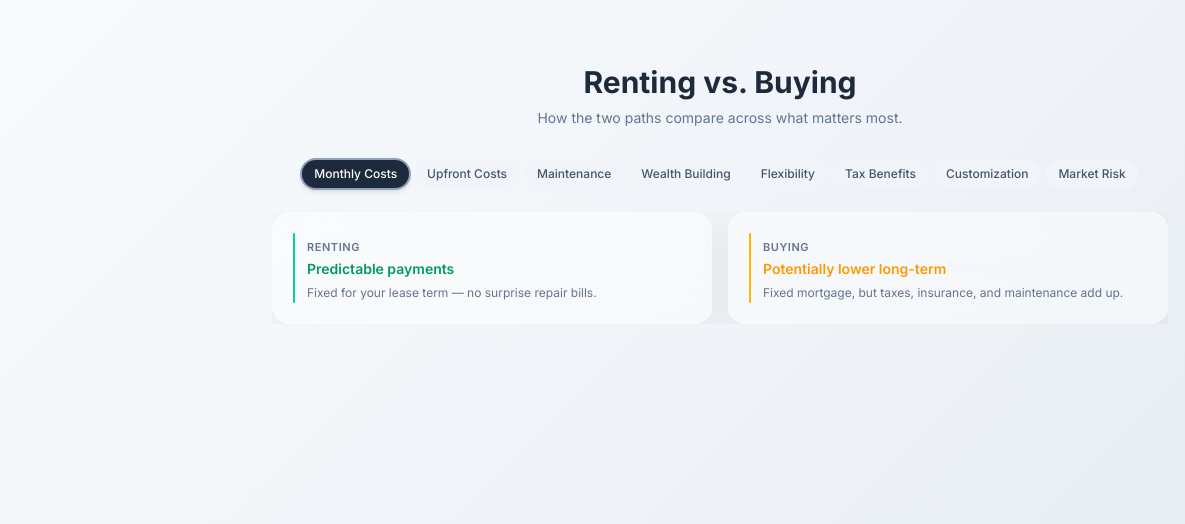
ComparisonSection — click navigation › clicking an indicator updates the content
This screenshot has width=1185, height=524.
Click the tab "Flexibility". click: (788, 174)
box: [749,160,827,188]
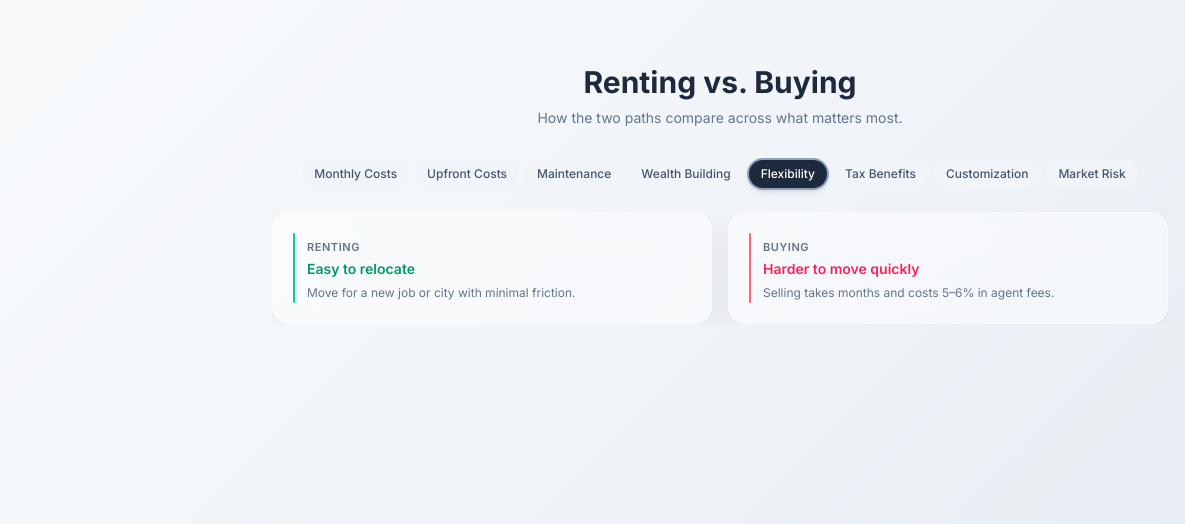
expect the heading "Easy to relocate" is shown: met, box [307,260,415,277]
